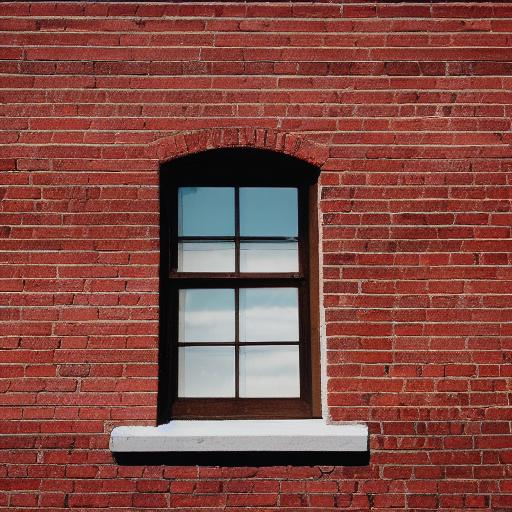Window: (109, 128, 367, 458)
